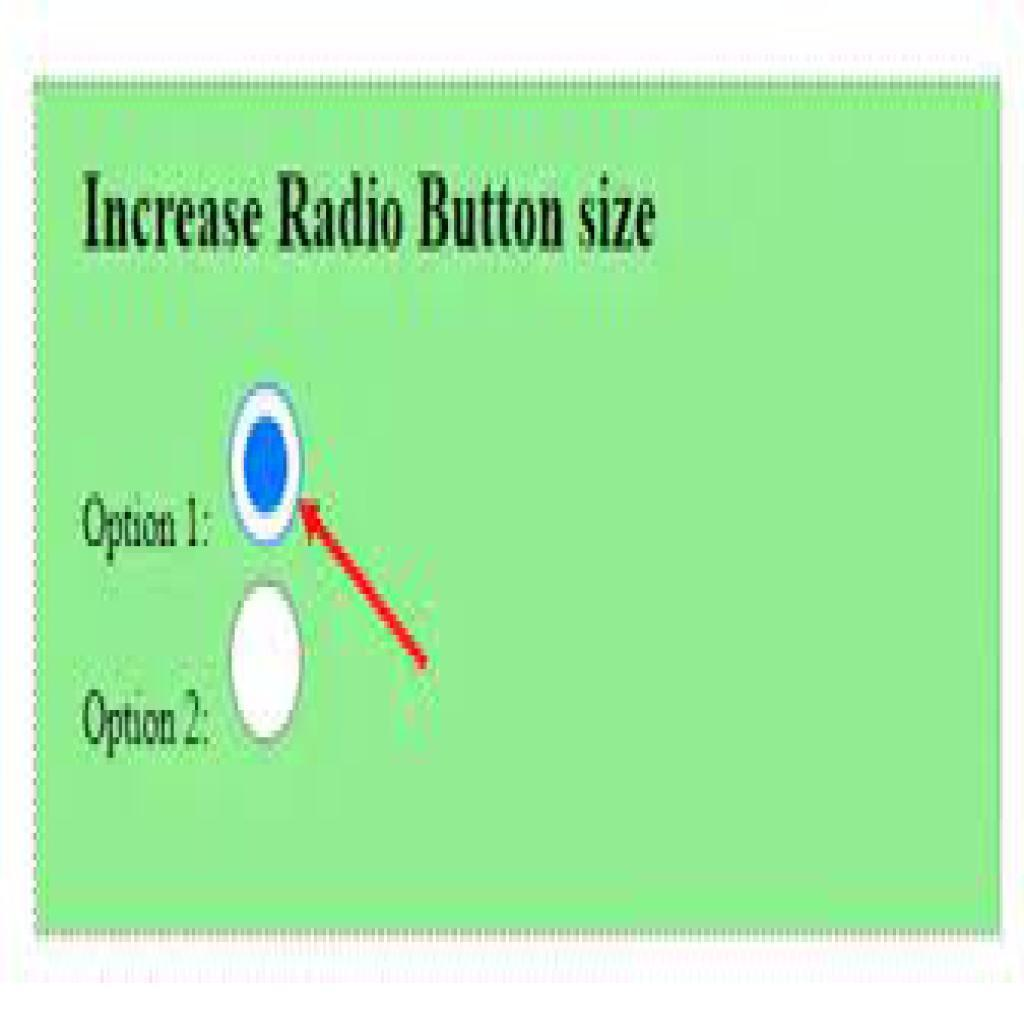label: (78, 162, 659, 259), (75, 485, 217, 566), (77, 684, 213, 761)
radio: (227, 579, 308, 747), (230, 381, 306, 548)
